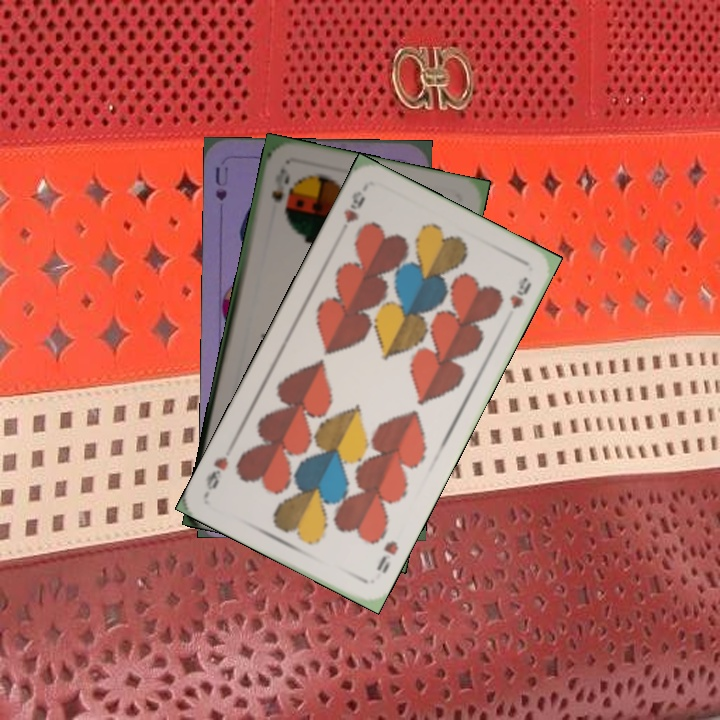H9: (372, 536, 402, 576), (339, 187, 368, 226)
SO: (267, 164, 293, 204)
SU: (211, 163, 231, 203)
